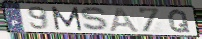7: (138, 7, 161, 34)
9: (27, 5, 51, 30)
A: (109, 6, 143, 33)
M: (50, 6, 84, 32)
Q: (167, 9, 192, 34)
S: (79, 6, 112, 32)
